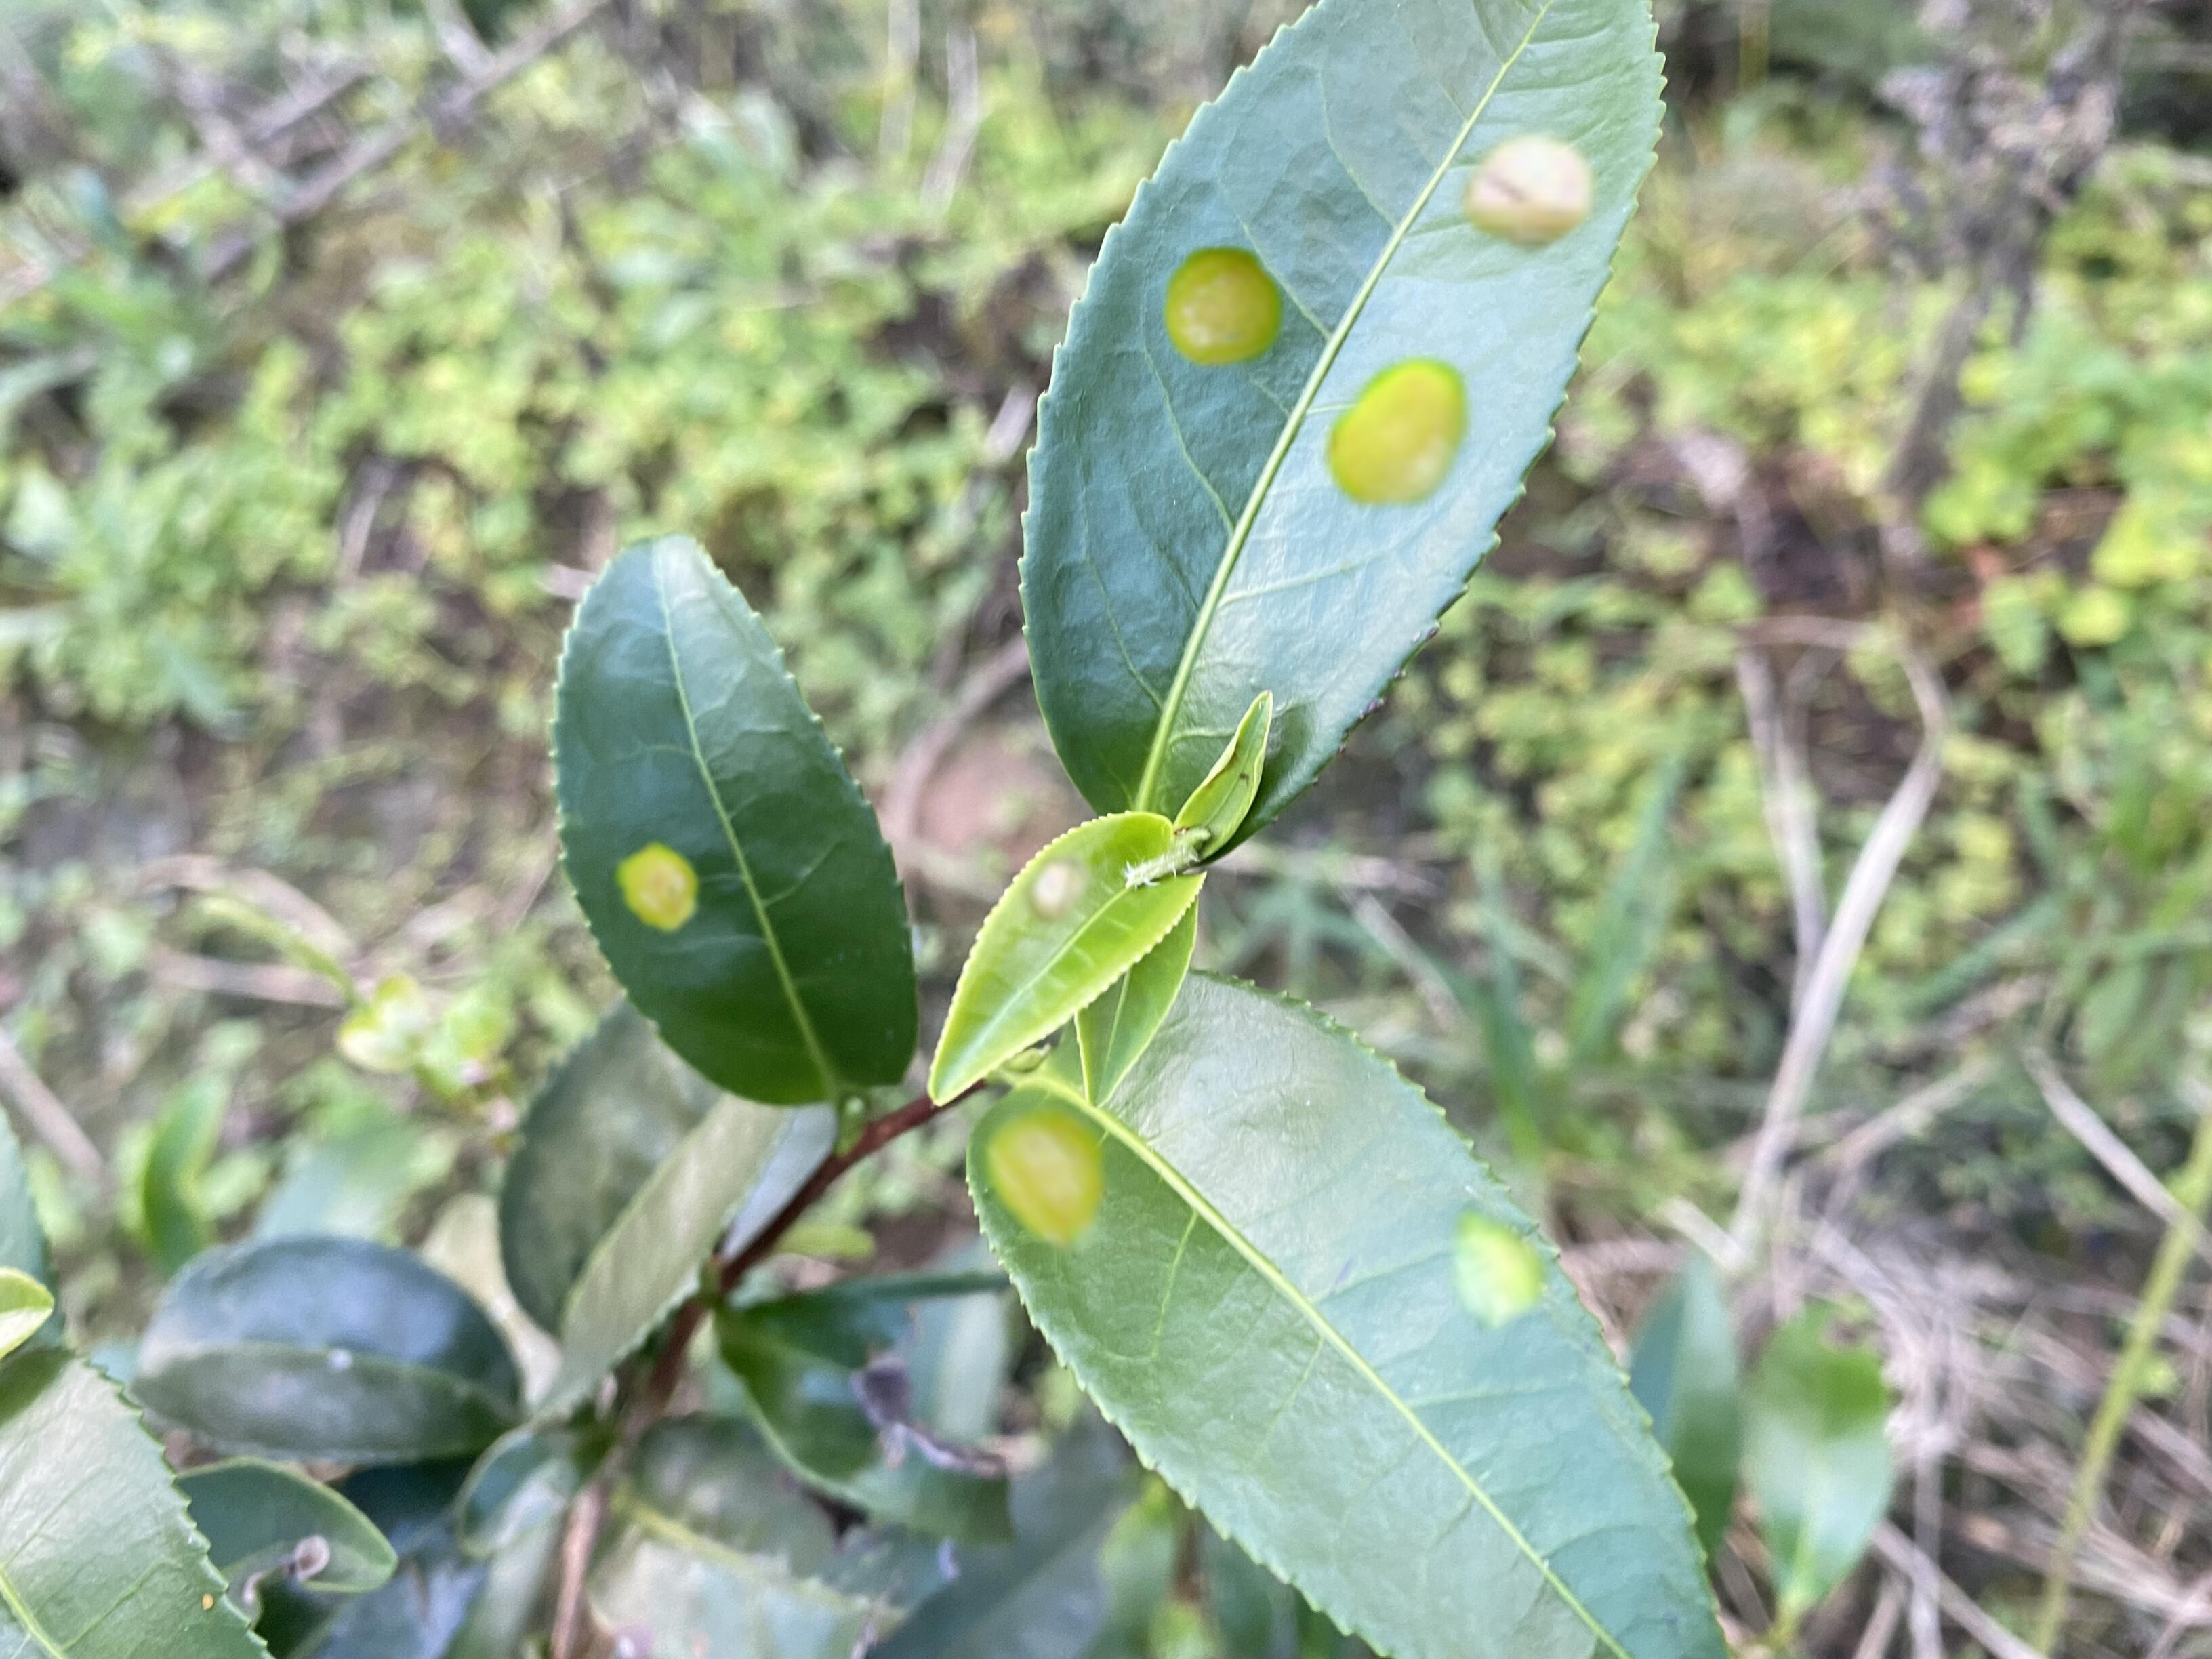chabing_high: (1017, 2, 1670, 856), (963, 976, 1737, 1652)
chabing_low: (543, 532, 913, 1105), (925, 809, 1211, 1107)
